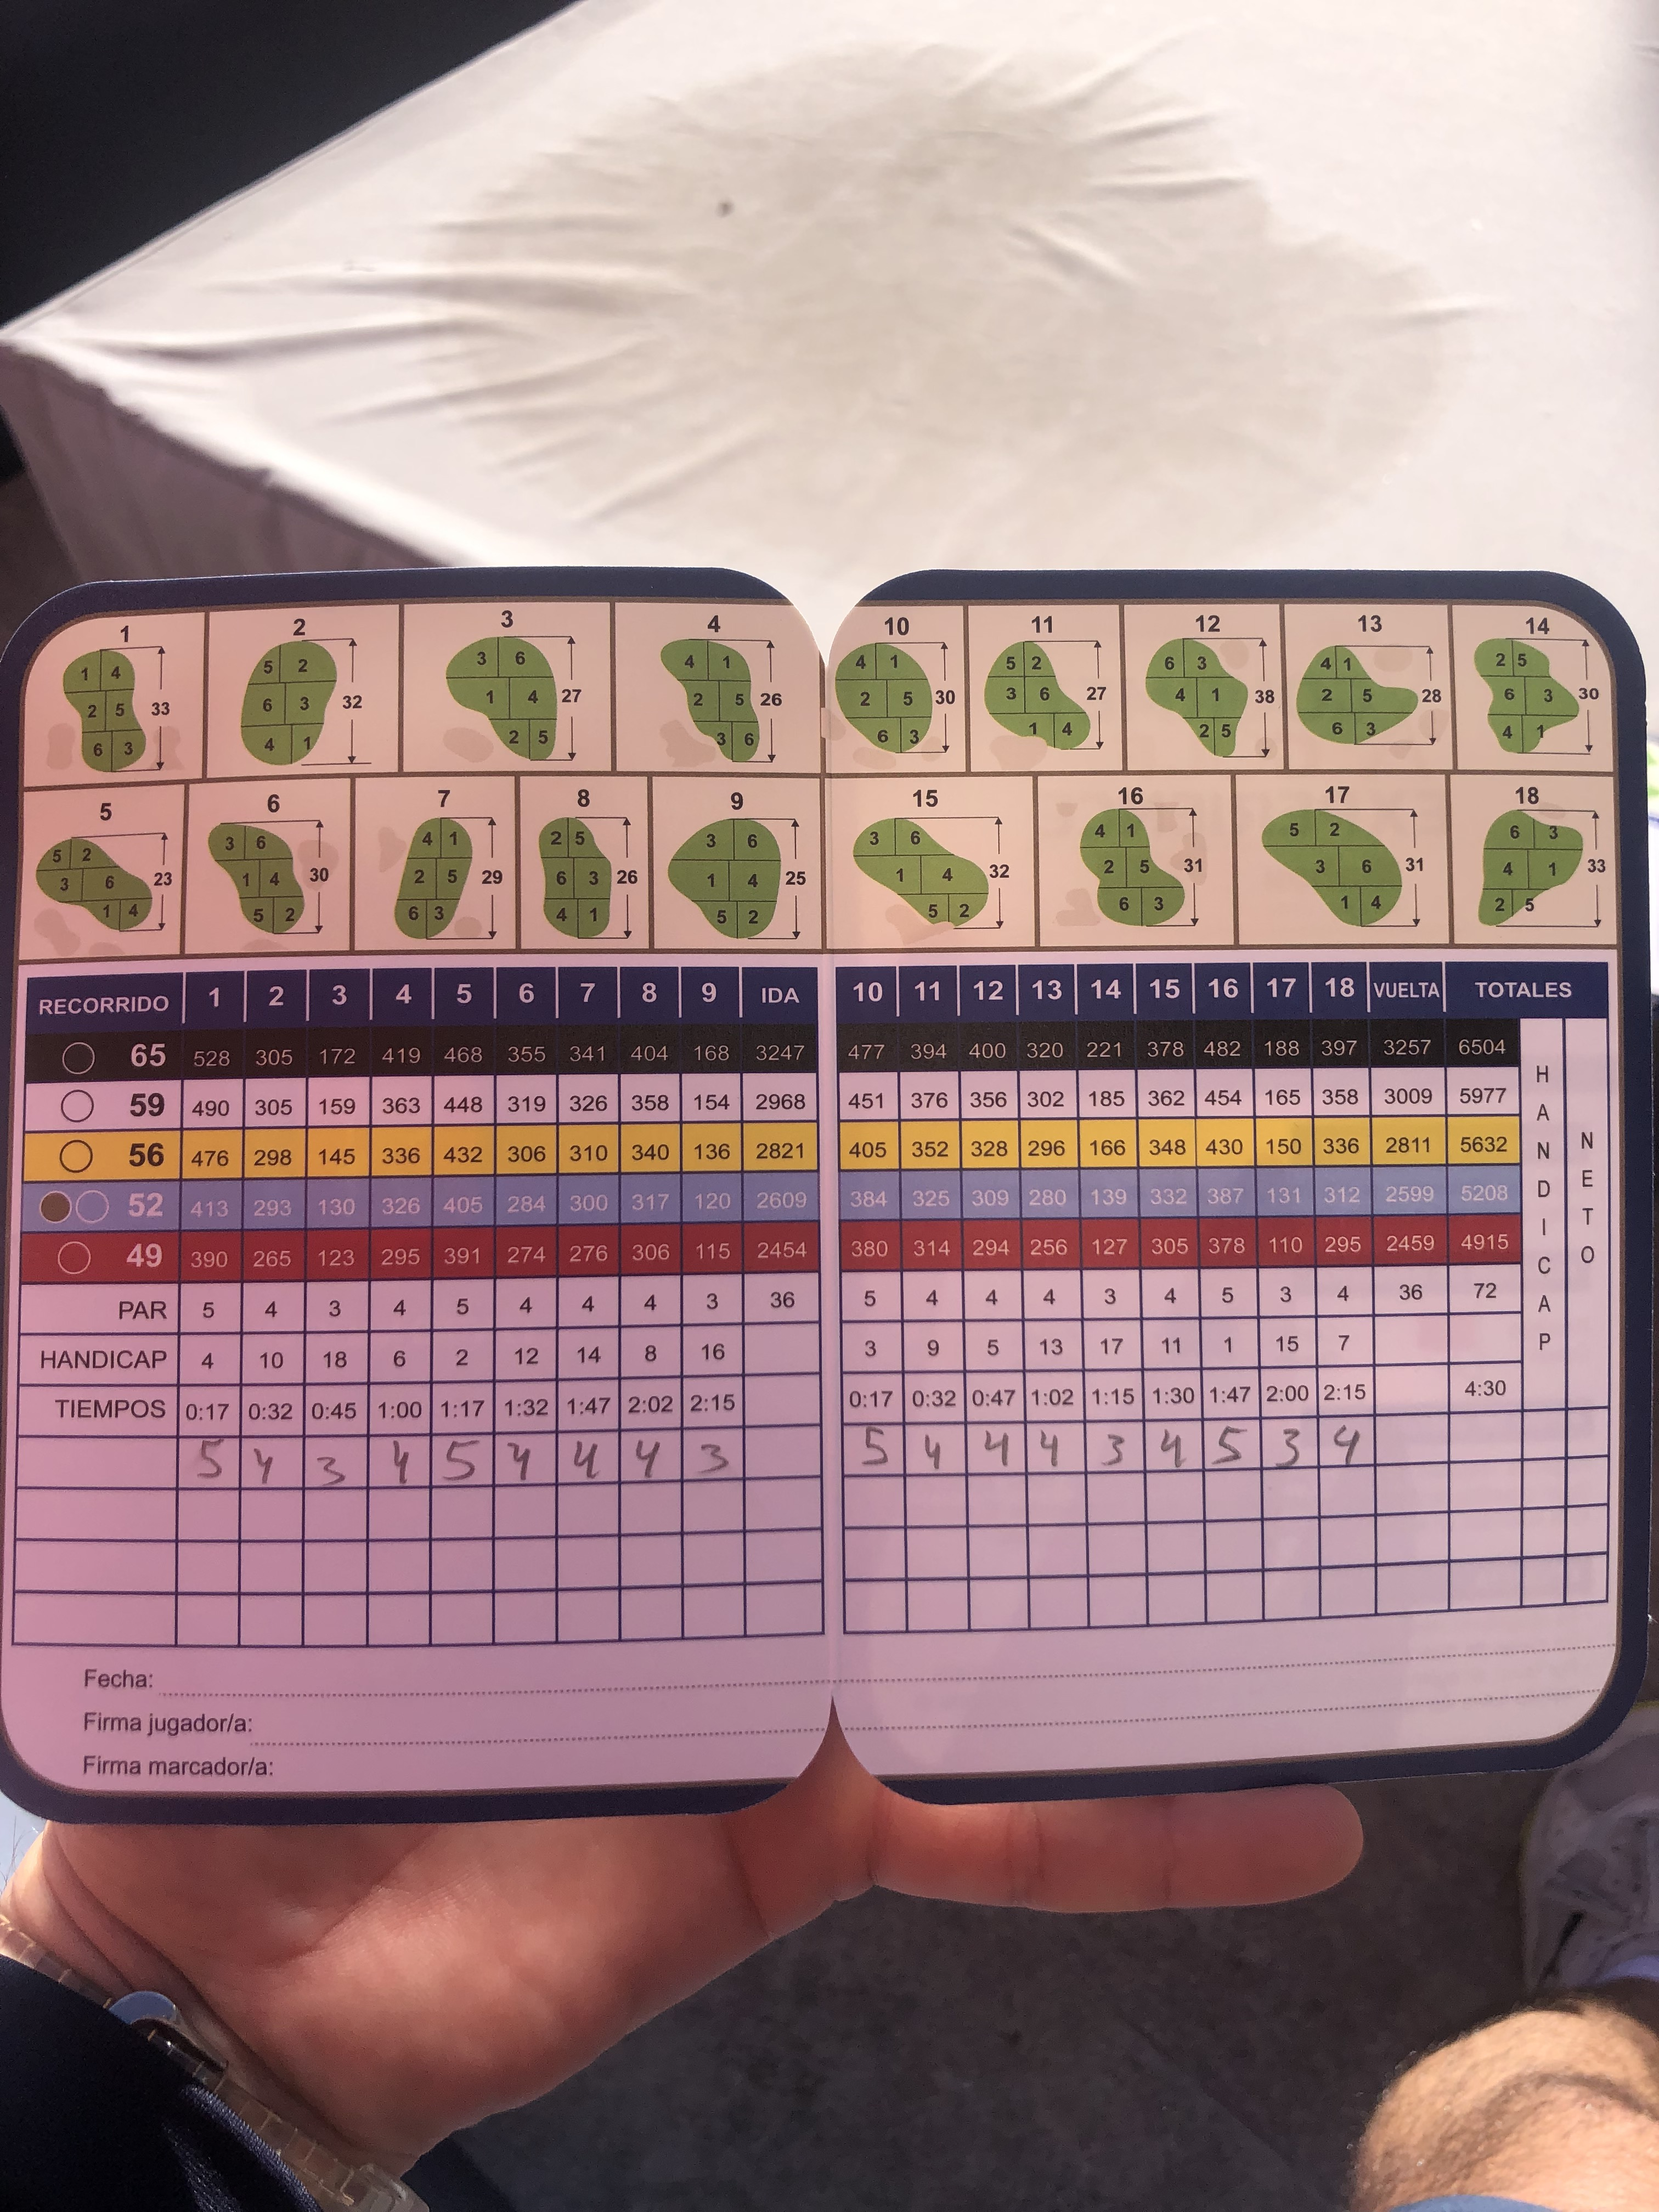par: (113, 1280, 1502, 1325)
score: (190, 1426, 1373, 1486)
